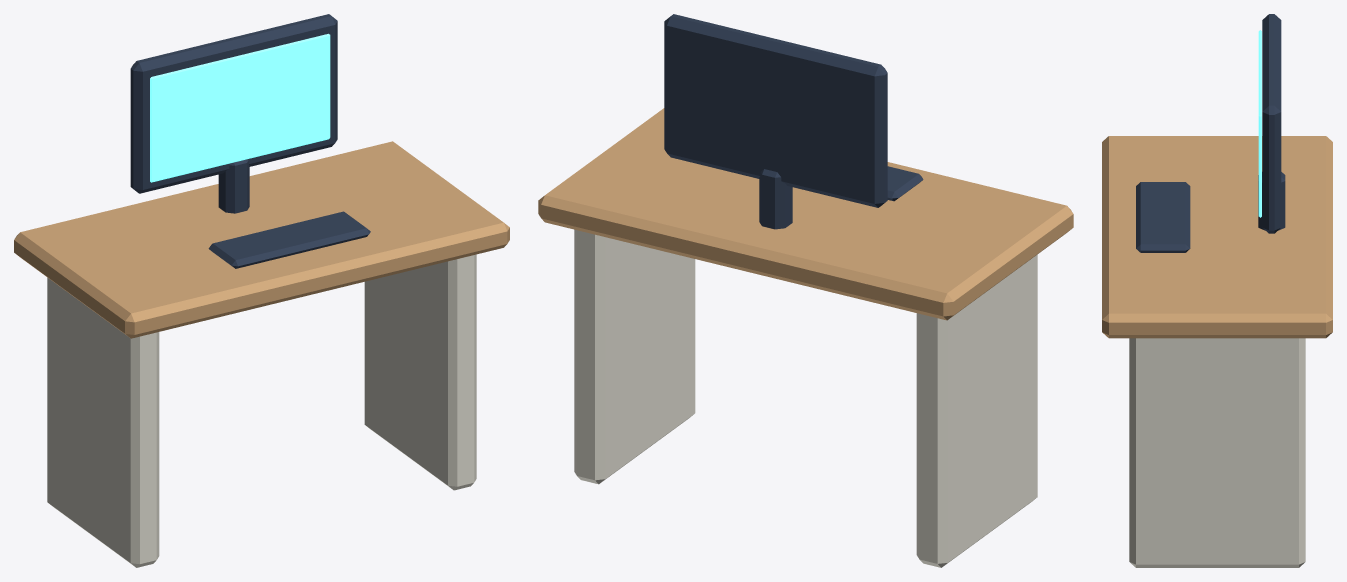
The model's file is desk.glb.
3 views of the same model, side by side, from view 1: azimuth 30°, elevation 25°; view 2: azimuth 150°, elevation 25°; view 3: azimuth 270°, elevation 25° (orthographic). The views are drawn at different scales.
Parts seen in each view (by area): view 1: Oak desktop, Desk support, Desk support.001, Monitor display, Monitor frame, Keyboard, Monitor stand; view 2: Oak desktop, Monitor frame, Desk support, Desk support.001, Monitor stand, Keyboard; view 3: Oak desktop, Desk support.001, Monitor frame, Keyboard, Monitor display, Monitor stand.
Boxes of the visible parts, x1,y1,x2,y2 form: Oak desktop: (14,141,509,338); Desk support: (47,277,159,567); Desk support.001: (364,254,476,490); Monitor display: (150,33,330,182); Monitor frame: (130,14,337,193); Keyboard: (208,211,370,268); Monitor stand: (218,159,249,213); Oak desktop: (538,108,1073,320); Monitor frame: (664,14,887,207); Desk support: (916,254,1037,567); Desk support.001: (574,229,695,484); Monitor stand: (759,169,792,229); Keyboard: (887,166,923,201); Oak desktop: (1102,136,1332,338); Desk support.001: (1129,338,1305,567); Monitor frame: (1262,14,1281,233); Keyboard: (1136,182,1190,252); Monitor display: (1258,30,1261,217); Monitor stand: (1258,172,1285,230).
Bounding box in the file's own units: 1.6 × 1.74 × 0.85.
